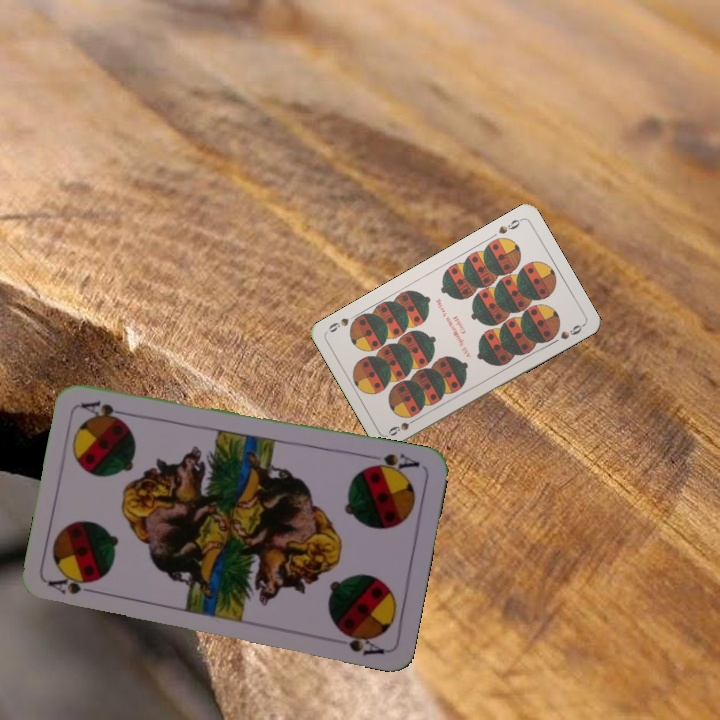S9: (384, 413, 422, 439), (494, 215, 525, 237)
SA: (363, 449, 422, 477), (45, 573, 104, 597)
